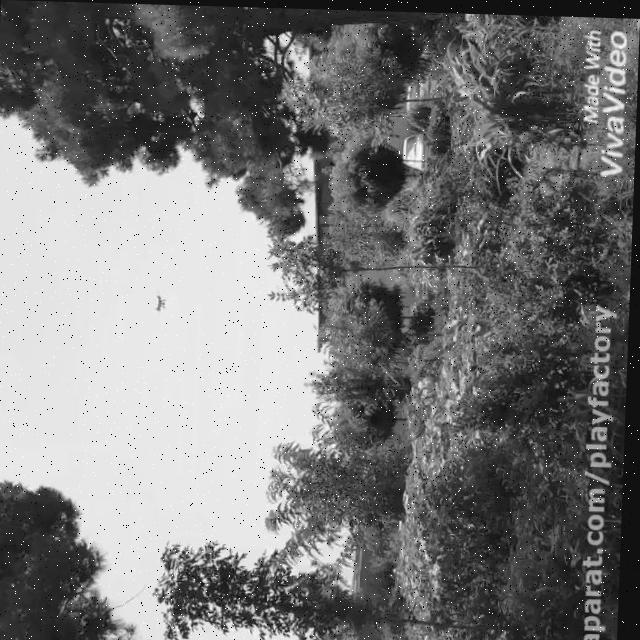drone: (149, 287, 171, 317)
